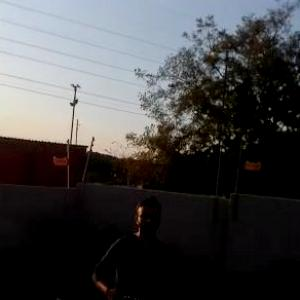follow: (85, 180, 179, 299)
